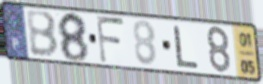8: (56, 11, 91, 64), (131, 19, 158, 69), (206, 25, 232, 76)
B: (25, 11, 61, 60)
F: (94, 14, 127, 65)
L: (173, 25, 201, 71)
